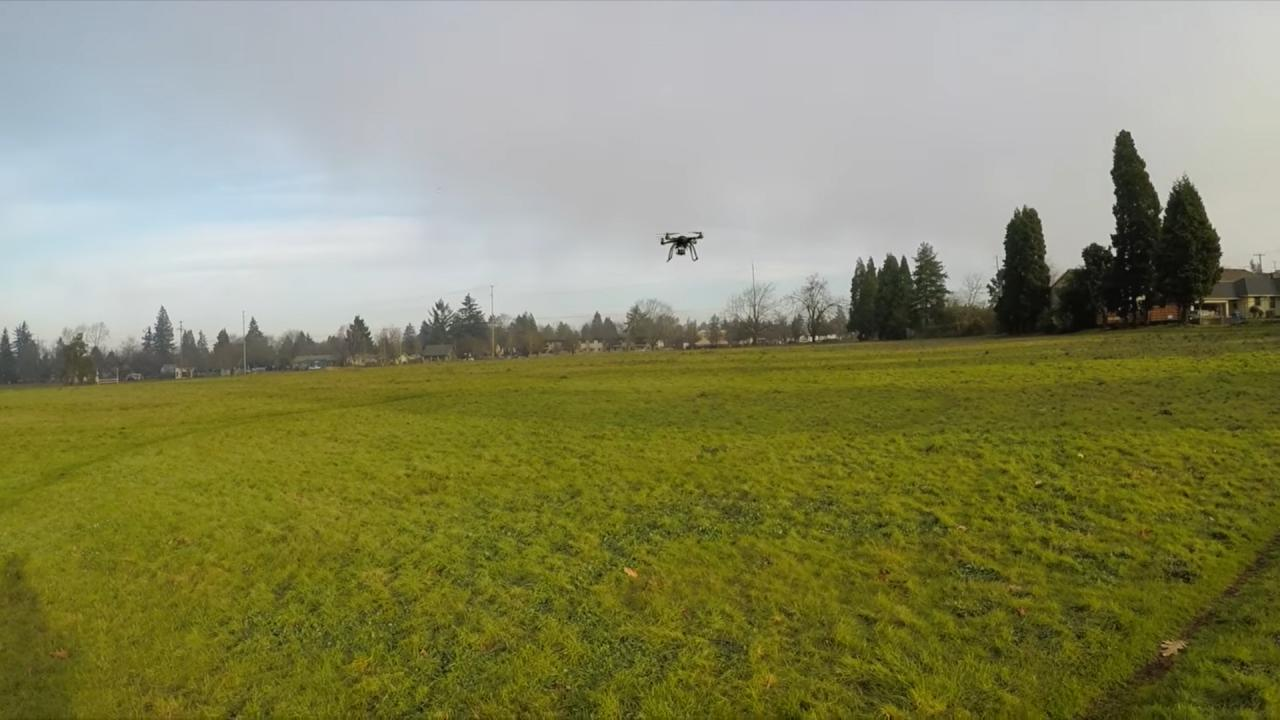Drone: (645, 222, 716, 270)
